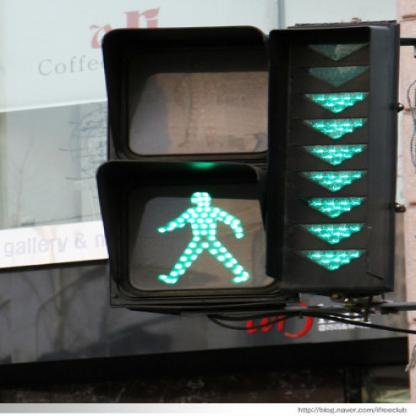Green: (103, 26, 291, 306)
